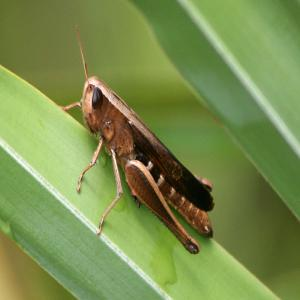locust: (72, 37, 225, 272)
